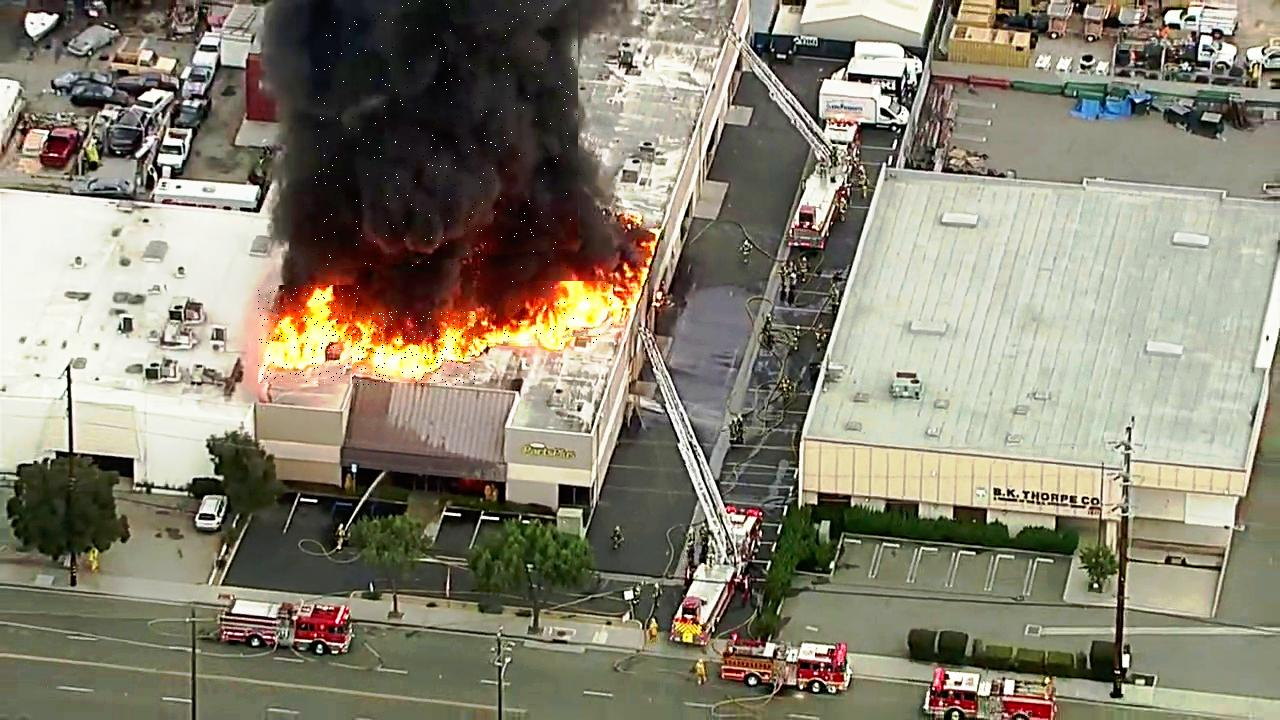fire: (259, 285, 361, 384), (354, 312, 475, 386), (503, 282, 614, 346)
smoke: (315, 0, 578, 270)
